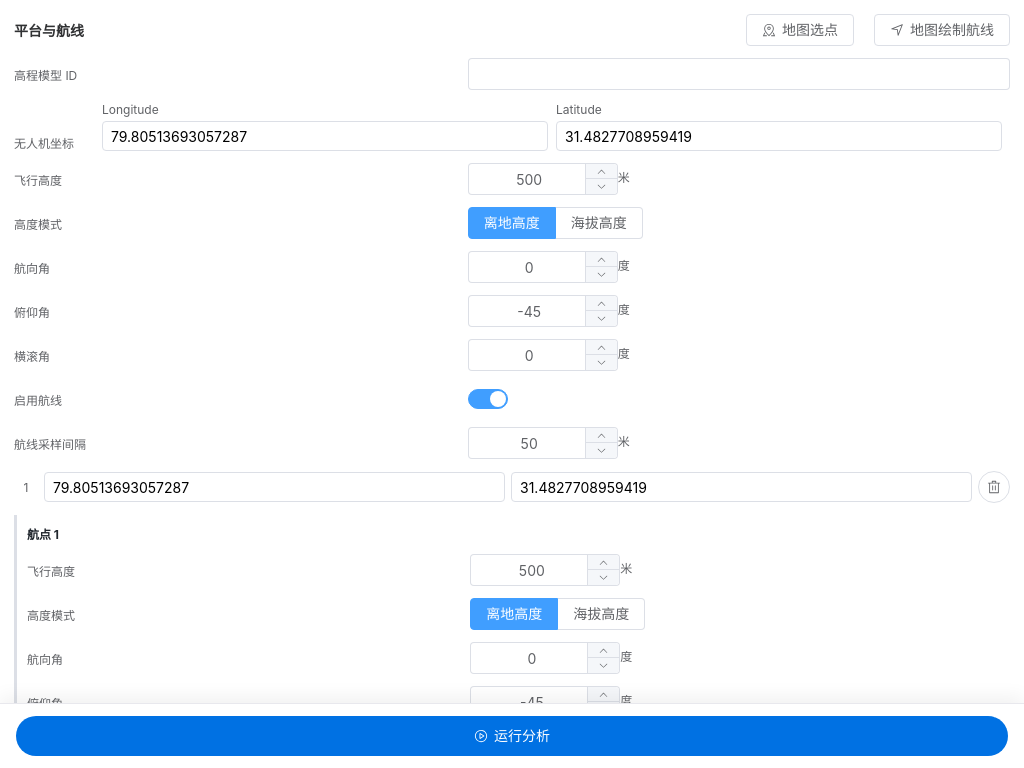
Test: ModelParameterPanel route models › shows localized panel footer copy for validation summaries
Step 1. Click the button "运行分析" → (512, 736), box x1=16 y1=716 x2=1008 y2=756
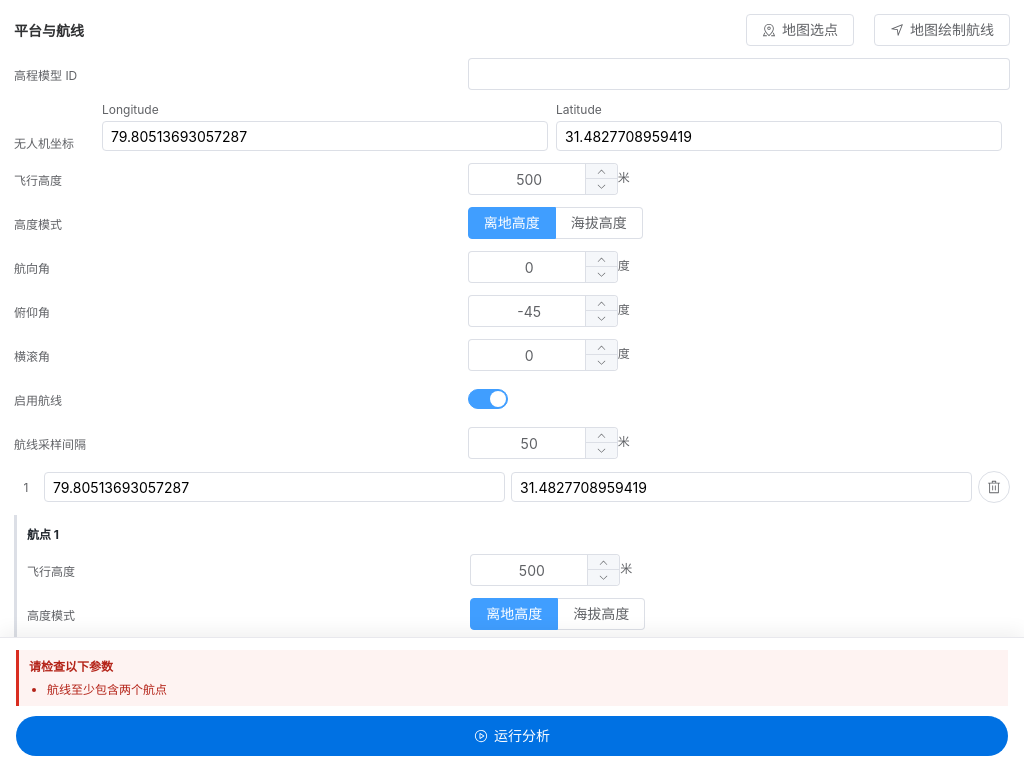
Check: the text "请检查以下参数" is shown, box x1=29 y1=659 x2=113 y2=674
